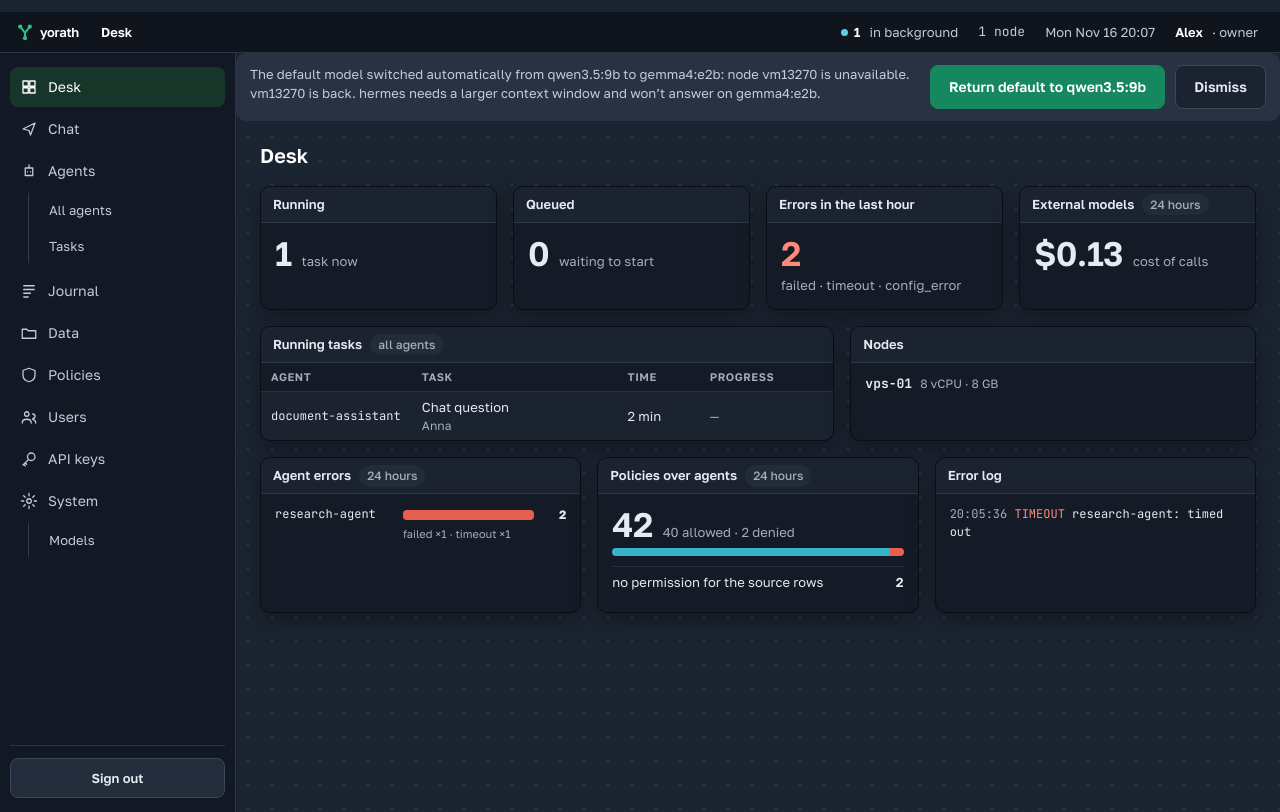
Test: The default model switched automatically › when the node is back the owner can return the model, or dismiss the warning
Check: the element "default model" shows "vm13270 is back", box [250,85,356,101]
Click the button "Return default to qwen3.5:9b".
click(1048, 87)  # box [930,65,1165,109]
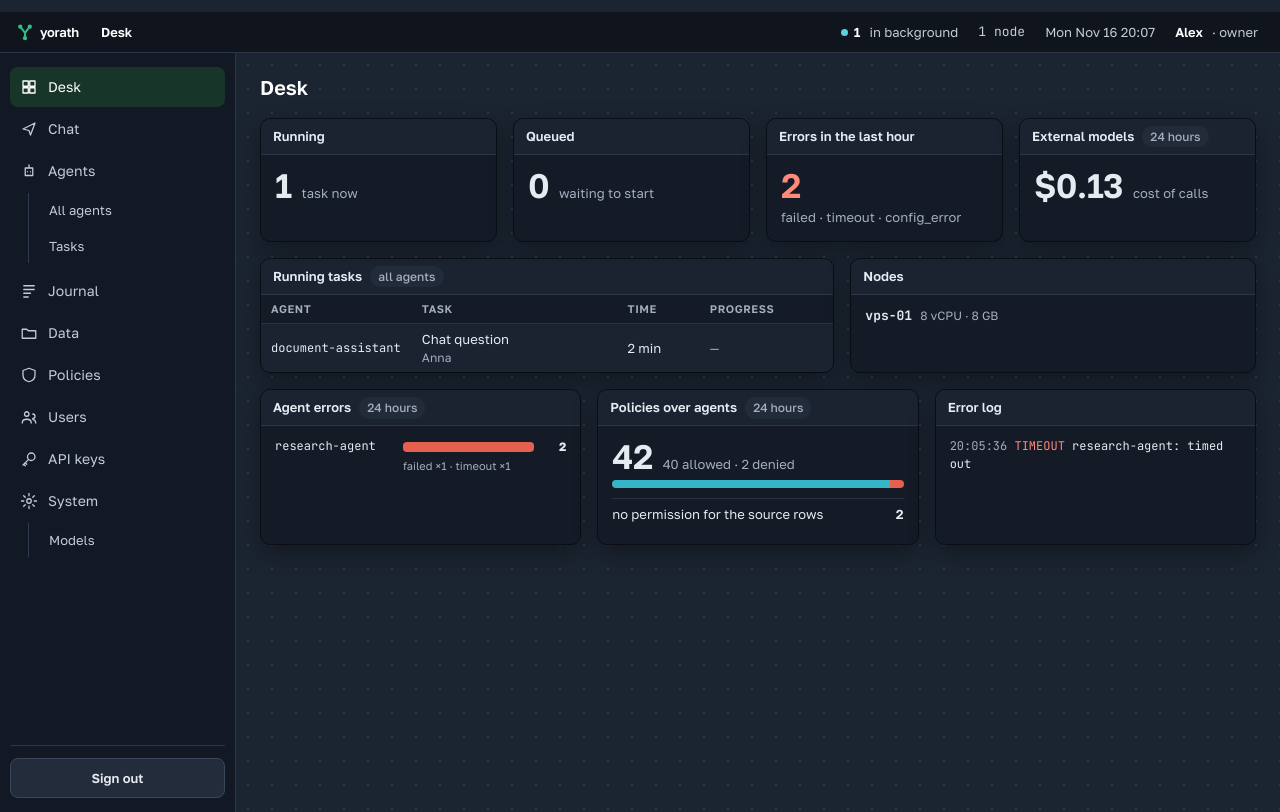
Check: the element "default model" is gone
